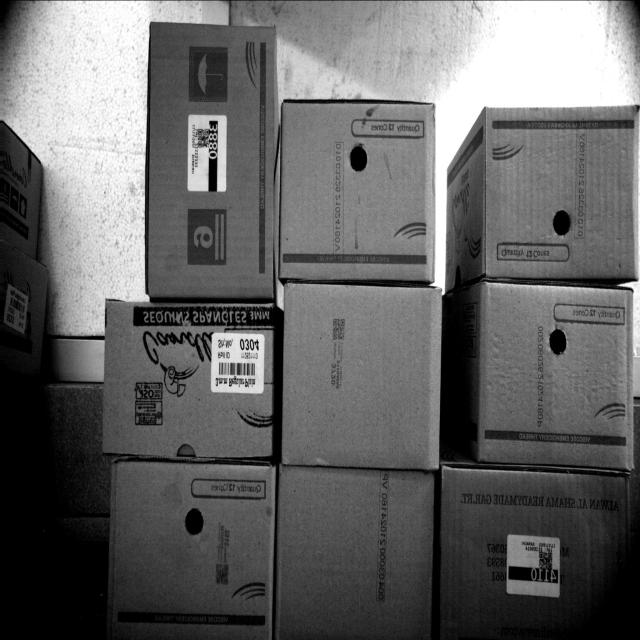cardboxes: (144, 24, 277, 295), (440, 461, 640, 639), (108, 457, 273, 639), (476, 284, 634, 472), (282, 278, 437, 464), (278, 101, 435, 278), (102, 295, 274, 454), (272, 472, 433, 639), (485, 109, 640, 281)
